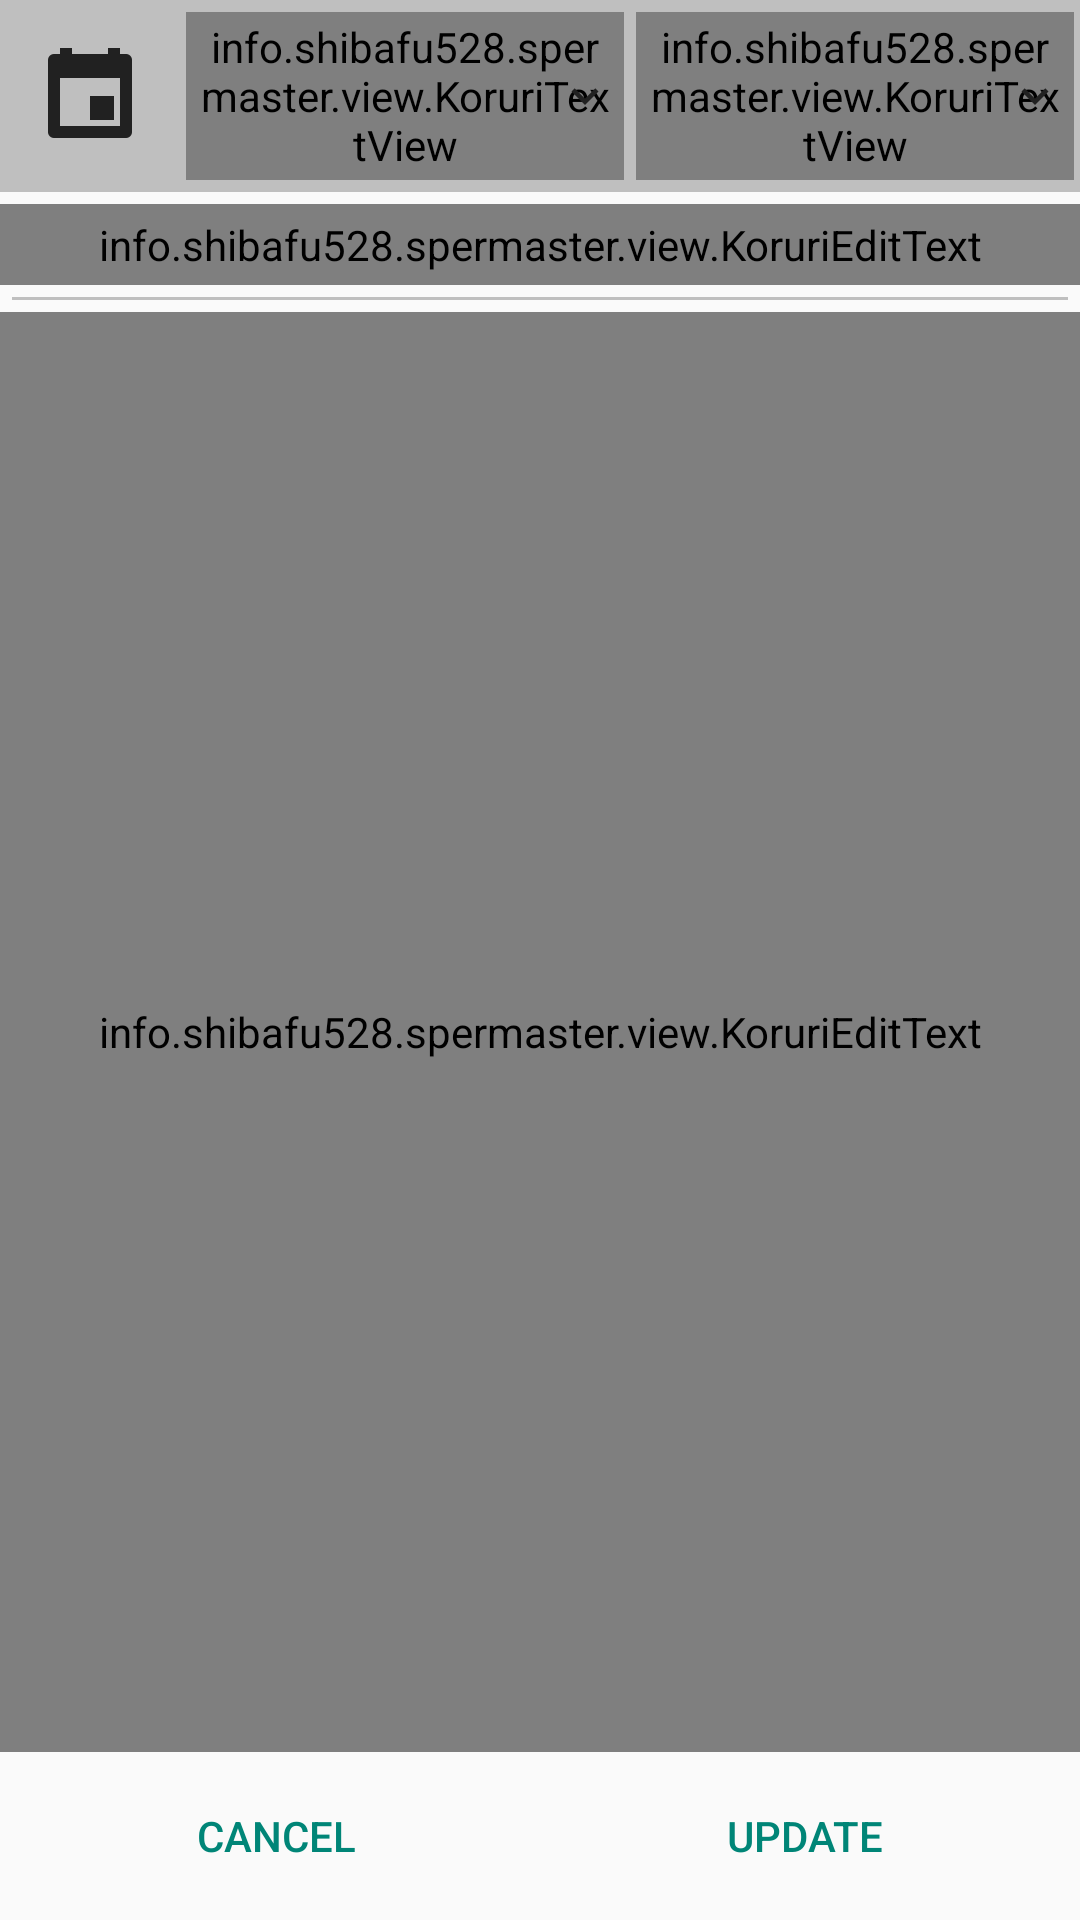

Locate icon controls on the screen. Image size 1080*1920, boxes as (x1, y1, x2, y2).
event: (48, 48, 132, 138)
